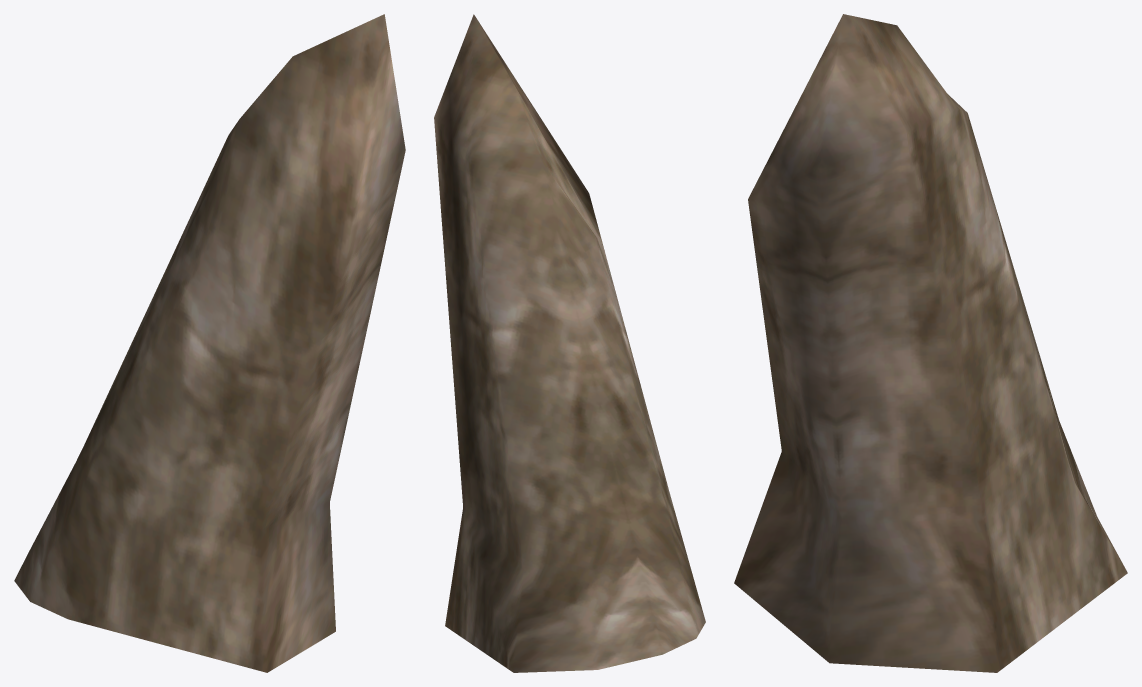
The model's file is OVERHILL_A_01_ROCK44.fbx.
3 views of the same model, side by side, from view 1: azimuth 30°, elevation 25°; view 2: azimuth 150°, elevation 25°; view 3: azimuth 270°, elevation 25° (orthographic). The views are drawn at different scales.
Visible parts, largest first — view 1: OVERHILL_A_01_ROCK44; view 2: OVERHILL_A_01_ROCK44; view 3: OVERHILL_A_01_ROCK44.
Part boxes in pixels (x1,y1,x2,y2): OVERHILL_A_01_ROCK44: [14, 14, 405, 672]; OVERHILL_A_01_ROCK44: [434, 14, 705, 672]; OVERHILL_A_01_ROCK44: [734, 14, 1127, 672].
Size of the model in its own units: 27138 by 49737 by 26135.
Materials: 1 (1 with a texture image).
